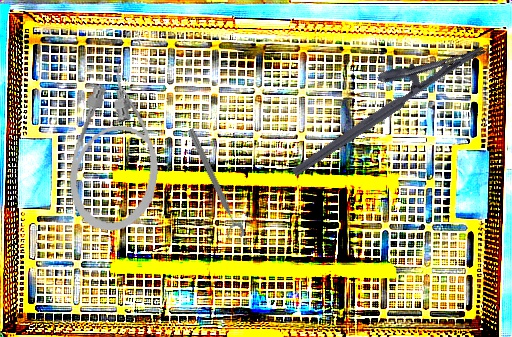Cannula: (61, 59, 176, 237)
Fixation Ring: (178, 126, 247, 243)
Needle Holder: (273, 17, 488, 179)
